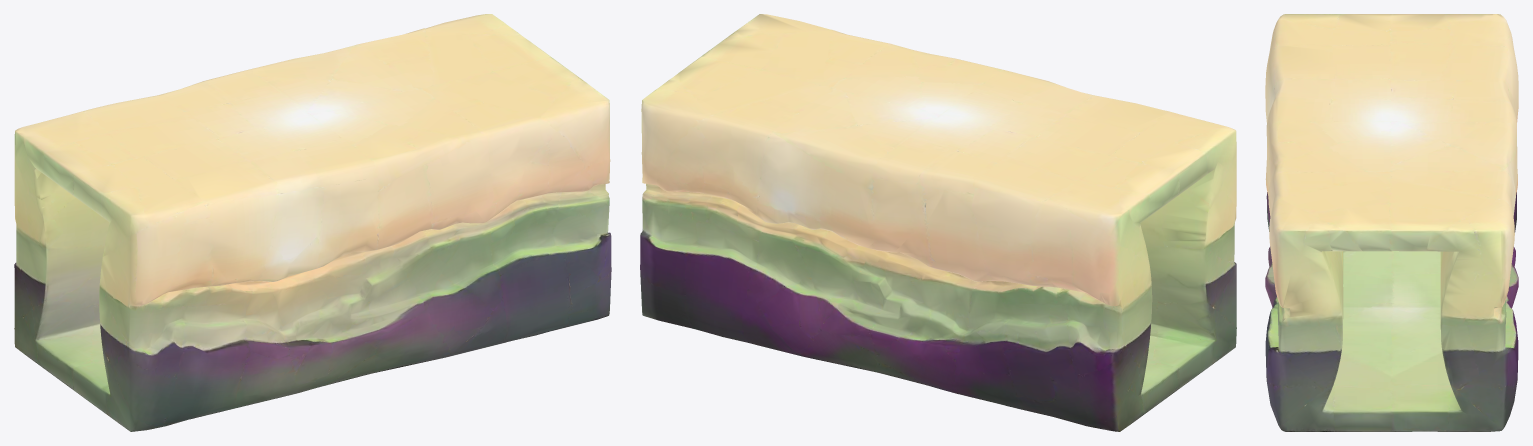
File: sunrise.glb
3 renders of one model, left to right at view 1: azimuth 30°, elevation 25°; view 2: azimuth 150°, elevation 25°; view 3: azimuth 270°, elevation 25°, orthographic. The views are drawn at different scales.
Size of the model in its own units: 1.9 by 0.8228 by 0.939.
1 material, 1 textured.
